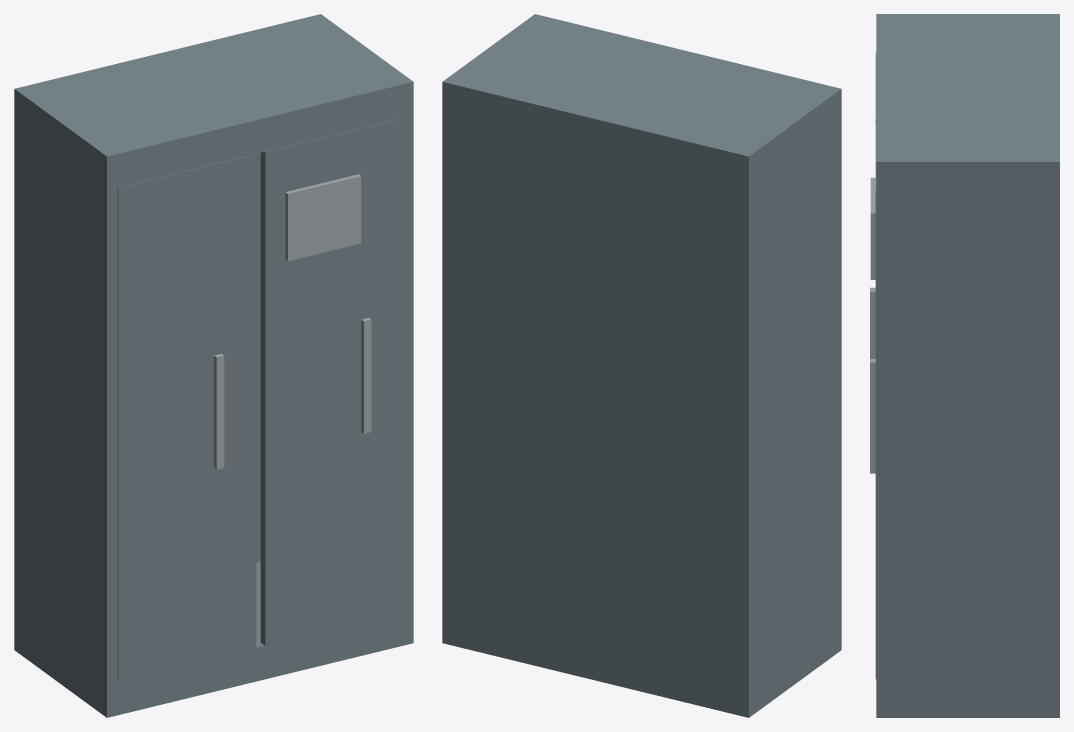
3 renders of one model, left to right at view 1: azimuth 30°, elevation 25°; view 2: azimuth 150°, elevation 25°; view 3: azimuth 270°, elevation 25°, orthographic.
Parts seen in each view (by area): view 1: g0.005, g0.003, g0.008, g0.006, g0.004, g0.009, g0.001, g0.007, g0.002, g0; view 2: g0.007, g0.008, g0.006, g0.009, g0.004; view 3: g0.009, g0.006, g0.008, g0.007, g0.003, g0.002, g0.001, g0.
Boxes of the visible parts, x1,y1,x2,y2 form: g0.005: (117, 154, 256, 681); g0.003: (260, 118, 403, 645); g0.008: (14, 84, 125, 717); g0.006: (39, 22, 413, 189); g0.004: (107, 562, 413, 717); g0.009: (303, 14, 413, 611); g0.001: (285, 174, 361, 261); g0.007: (33, 14, 325, 562); g0.002: (361, 317, 371, 433); g0: (214, 353, 224, 469); g0.007: (442, 78, 754, 717); g0.008: (730, 84, 841, 702); g0.006: (466, 18, 841, 187); g0.009: (442, 14, 552, 630); g0.004: (442, 609, 816, 713); g0.009: (876, 153, 1059, 717); g0.006: (876, 23, 1048, 191); g0.008: (876, 14, 1059, 22); g0.007: (1049, 16, 1059, 378); g0.003: (875, 124, 876, 678); g0.002: (870, 359, 875, 473); g0.001: (870, 177, 875, 279); g0: (870, 287, 875, 358).
Size of the model in its own units: 1.2 by 2.1 by 0.65.
